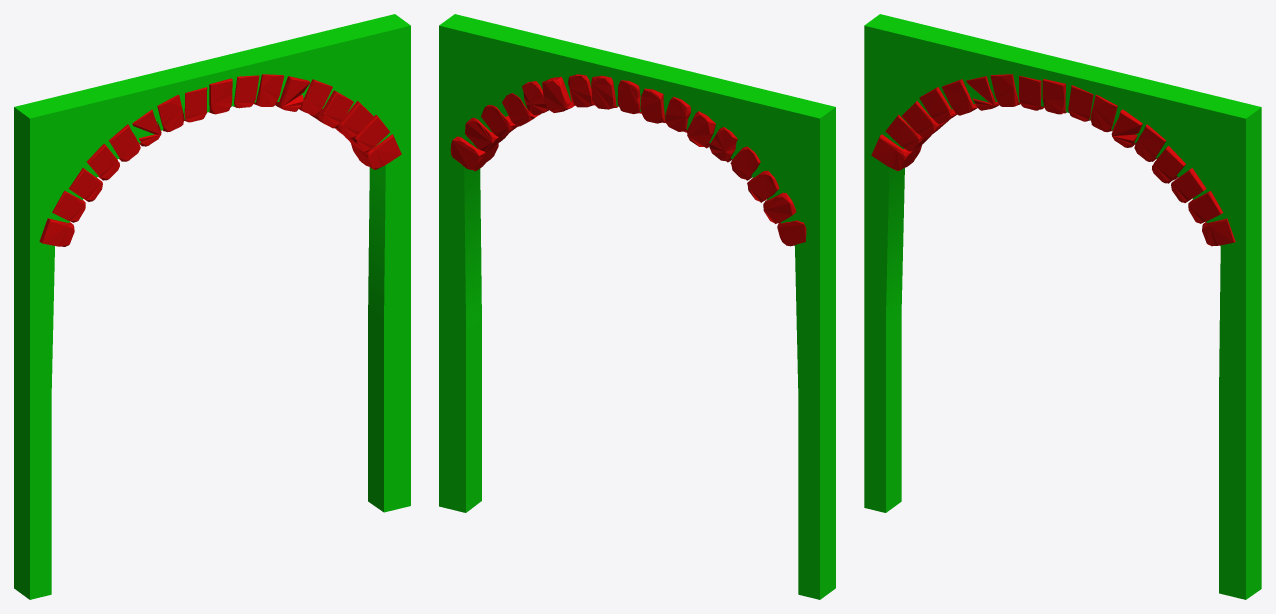
File: MiniArch.fbx
The picture shows the model from 3 angles, left to right: view 1: azimuth 30°, elevation 25°; view 2: azimuth 150°, elevation 25°; view 3: azimuth 330°, elevation 25°; orthographic projection.
Parts seen in each view (by area): view 1: Archeway_Medium.002; view 2: Archeway_Medium.002; view 3: Archeway_Medium.002.
Part boxes in pixels (bbox=[...]): Archeway_Medium.002: bbox=[14, 14, 410, 599]; Archeway_Medium.002: bbox=[439, 14, 835, 599]; Archeway_Medium.002: bbox=[864, 14, 1261, 599].
Size of the model in its own units: 416 by 502 by 43.9.
